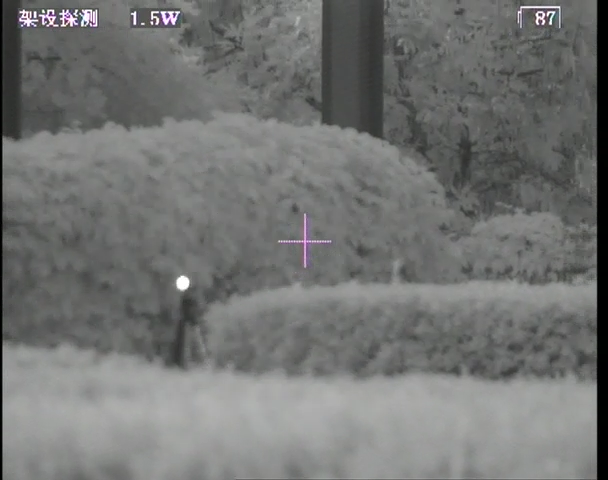my: (174, 274, 193, 292)
